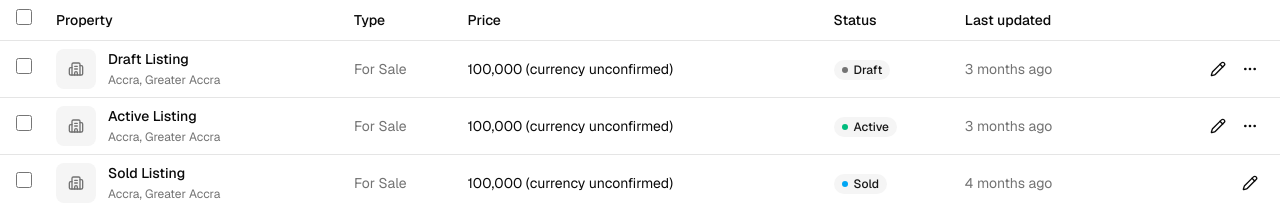
Test case: ListingsTable › only offers the transitions valid for a DRAFT listing, plus Delete
Step 1. Click the button named "Actions for Draft Listing" → (1250,68), box [1236,54,1264,82]
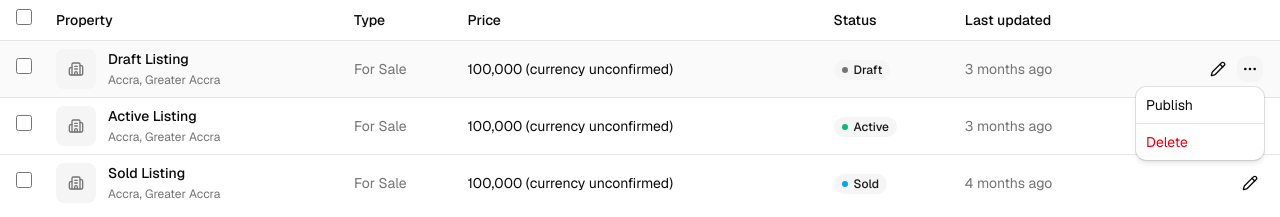
Result: the menu item "Publish" is shown at [1146,96,1193,114]
Result: the menu item "Delete" is shown at [1146,133,1188,151]
